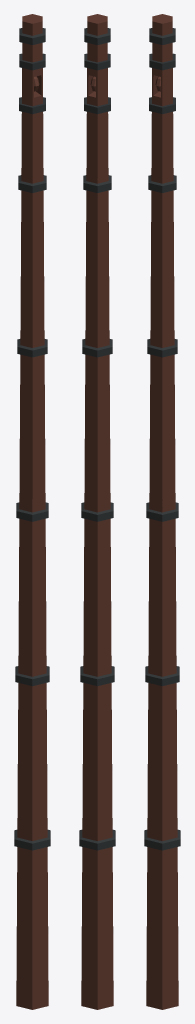
Rendered from mast.glb.
3 views of the same model, side by side, from view 1: azimuth 30°, elevation 25°; view 2: azimuth 150°, elevation 25°; view 3: azimuth 330°, elevation 25° (orthographic).
Visible parts, largest first — view 1: mast, steelring; view 2: mast, steelring; view 3: mast, steelring.
Boxes of the visible parts, x1,y1,x2,y2 form: mast: [16, 14, 48, 1009]; steelring: [14, 28, 50, 850]; mast: [81, 14, 113, 1009]; steelring: [79, 28, 115, 850]; mast: [146, 14, 178, 1009]; steelring: [144, 28, 180, 850].
Bounding box in the file's own units: 0.4354 × 11.2 × 0.3771.
